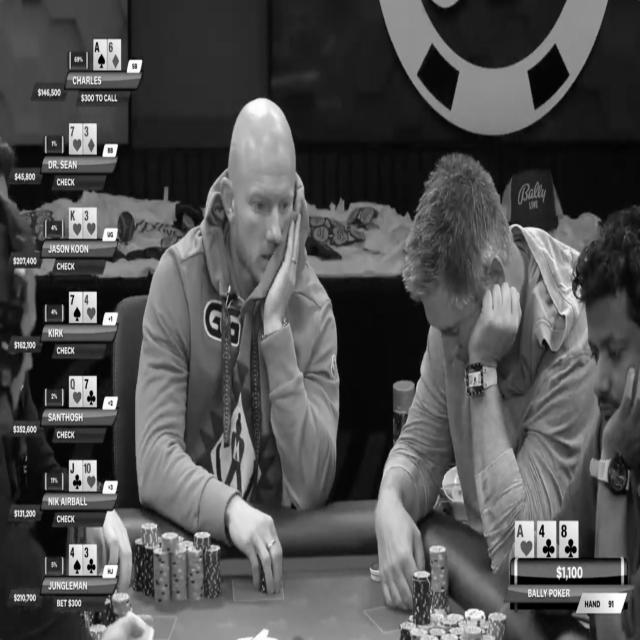10H: (83, 460, 97, 492)
3C: (83, 544, 97, 576)
3D: (83, 123, 97, 155)
3H: (82, 208, 97, 238)
4C: (538, 521, 556, 558)
4H: (83, 292, 97, 323)
4S: (69, 545, 83, 575)
6D: (107, 39, 122, 70)
7C: (83, 376, 97, 408)
7H: (69, 123, 83, 154)
7S: (68, 292, 84, 322)
8C: (559, 521, 578, 559)
AH: (515, 521, 534, 557)
AS: (93, 39, 107, 69)
JC: (69, 459, 83, 491)
KH: (69, 208, 83, 239)
QH: (69, 376, 83, 407)
